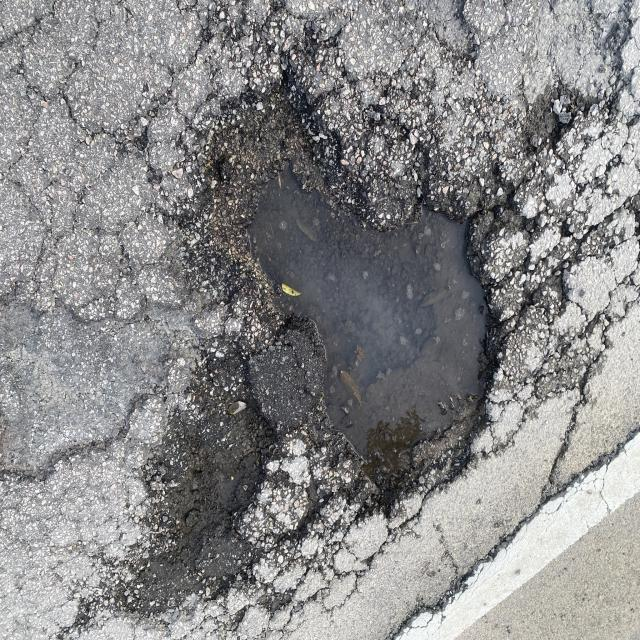pothole: (174, 61, 560, 513), (90, 336, 284, 608)
